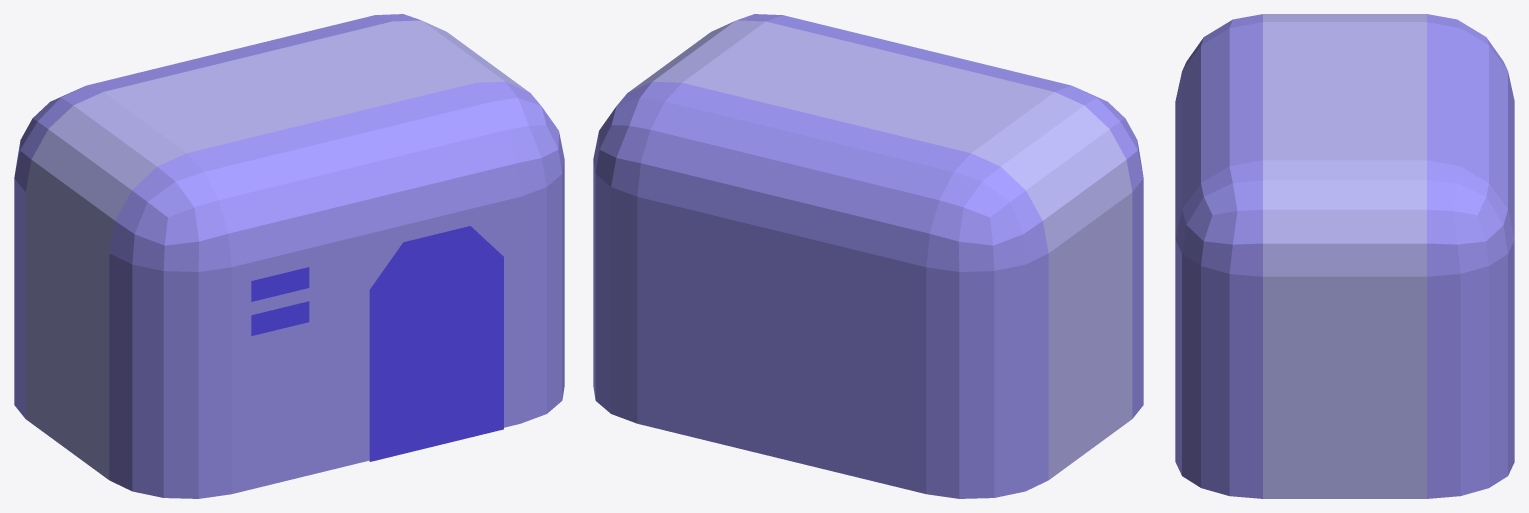
The model's file is Building_020_b.fbx.
The picture shows the model from 3 angles, left to right: view 1: azimuth 30°, elevation 25°; view 2: azimuth 150°, elevation 25°; view 3: azimuth 270°, elevation 25°; orthographic projection. The views are drawn at different scales.
Visible parts, largest first — view 1: Building_020_b_h; view 2: Building_020_b_h; view 3: Building_020_b_h.
Boxes of the visible parts, <box> form: Building_020_b_h: <box>14,14,564,498</box>; Building_020_b_h: <box>593,14,1143,498</box>; Building_020_b_h: <box>1175,14,1514,498</box>.
Bounding box in the file's own units: 4.52 × 3 × 3.09.
